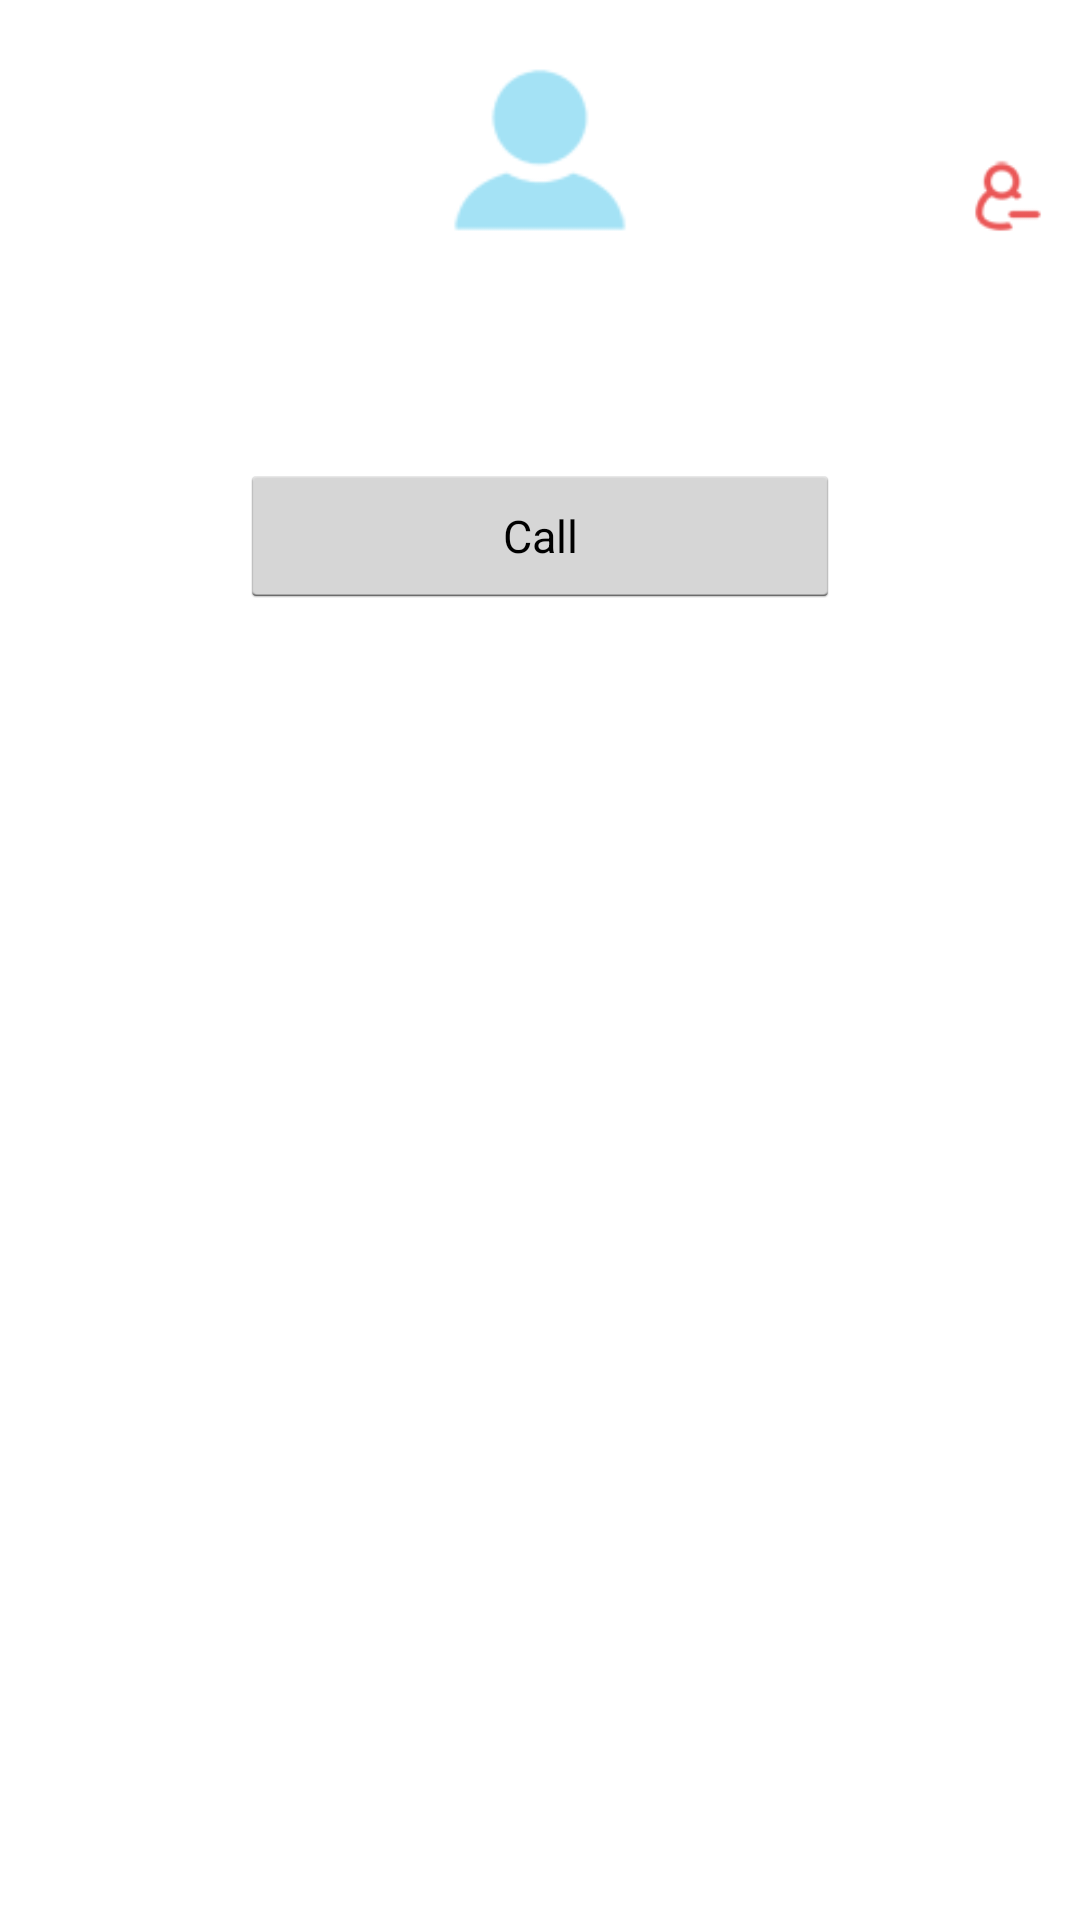

Icons on this 1080×1920 Android screen, each with the point to tap as point (x, y):
delete contact: point (1008, 196)
